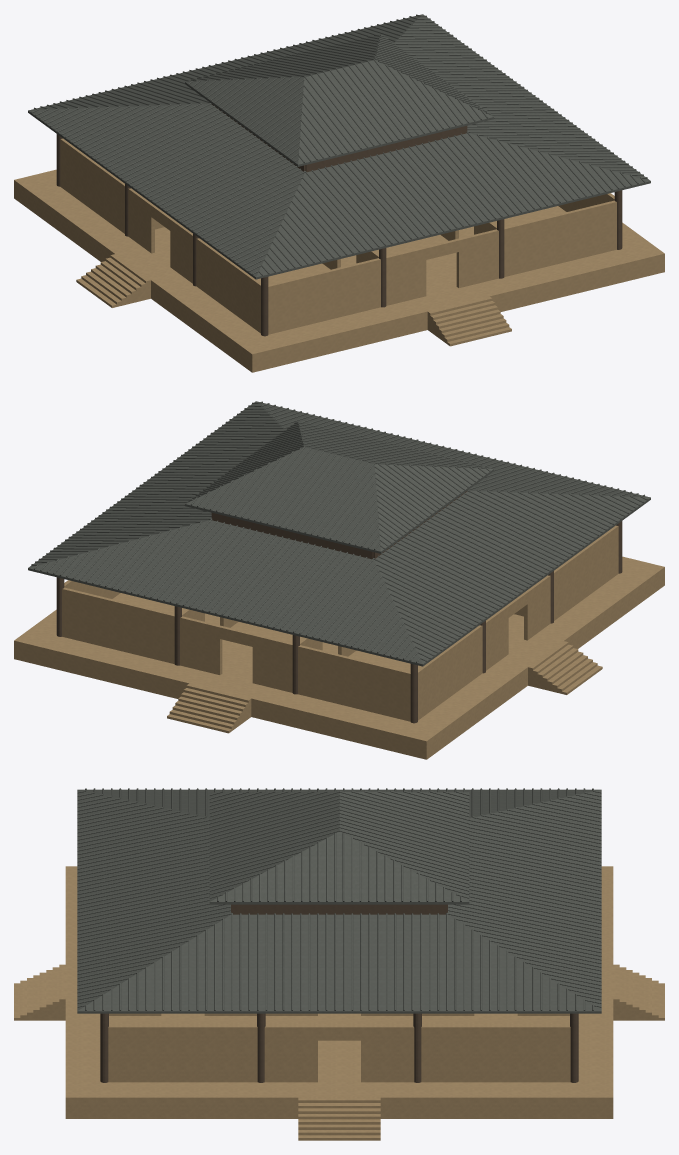
File: mingtang-A-LOD0.glb
3 views of the same model, one above another, from view 1: azimuth 30°, elevation 25°; view 2: azimuth 150°, elevation 25°; view 3: azimuth 270°, elevation 25° (orthographic). The views are drawn at different scales.
Parts seen in each view (by area): view 1: mingtang-A-static_tile, mingtang-A-static_earth, mingtang-A-static_timber; view 2: mingtang-A-static_tile, mingtang-A-static_earth, mingtang-A-static_timber; view 3: mingtang-A-static_tile, mingtang-A-static_earth, mingtang-A-static_timber.
Part boxes in pixels (<box>): mingtang-A-static_tile: <box>28,14,650,279</box>; mingtang-A-static_earth: <box>14,138,664,372</box>; mingtang-A-static_timber: <box>56,104,622,336</box>; mingtang-A-static_tile: <box>28,401,650,666</box>; mingtang-A-static_earth: <box>14,525,664,759</box>; mingtang-A-static_timber: <box>56,491,622,723</box>; mingtang-A-static_tile: <box>77,788,601,1013</box>; mingtang-A-static_earth: <box>14,866,664,1140</box>; mingtang-A-static_timber: <box>100,904,578,1082</box>.
Bounding box in the file's own units: 33.28 × 10.88 × 33.28.
Materials: 3 (3 with a texture image).
